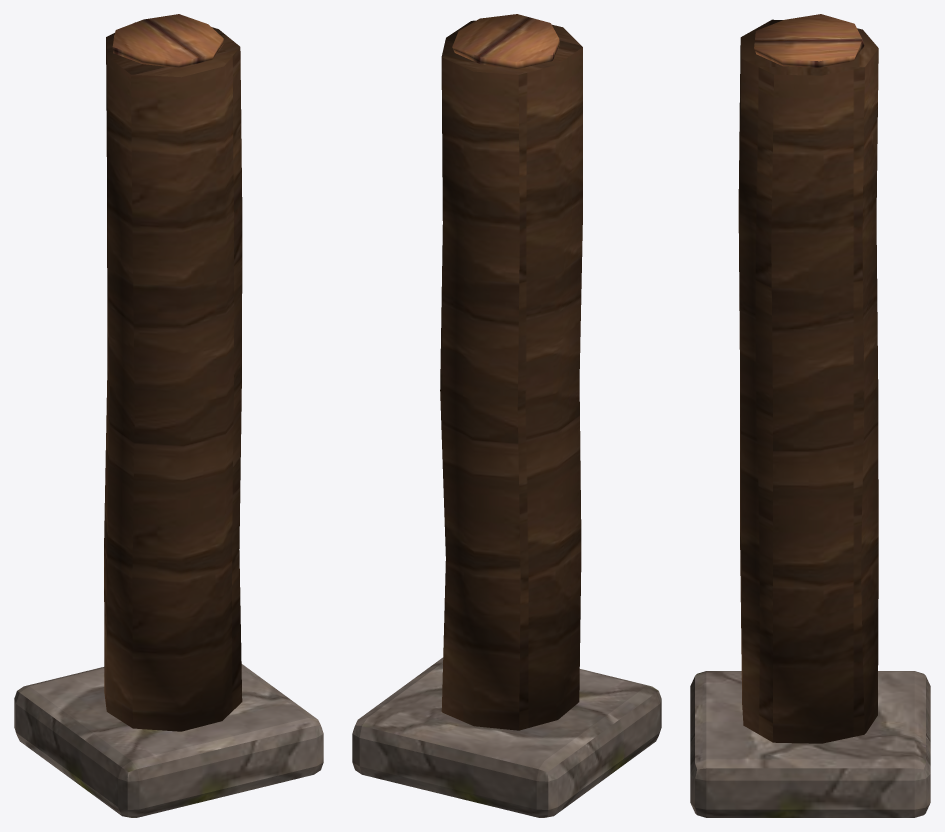
The model's file is pole_1m.glb.
3 renders of one model, left to right at view 1: azimuth 30°, elevation 25°; view 2: azimuth 150°, elevation 25°; view 3: azimuth 270°, elevation 25°, orthographic.
Parts seen in each view (by area): view 1: model; view 2: model; view 3: model.
Part boxes in pixels (box(x1,y1,x2,y2)): model: box(14, 14, 323, 817); model: box(352, 14, 661, 817); model: box(690, 14, 930, 817).
Size of the model in its own units: 0.3 by 1.01 by 0.3.
Materials: 3 (3 with a texture image).
